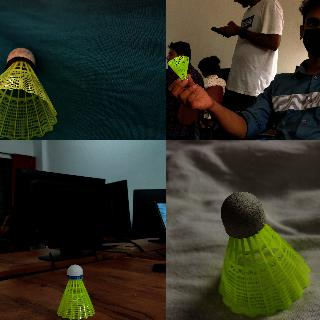shuttlecock: (217, 192, 309, 316), (0, 47, 57, 139), (57, 264, 95, 320), (167, 56, 189, 80)
